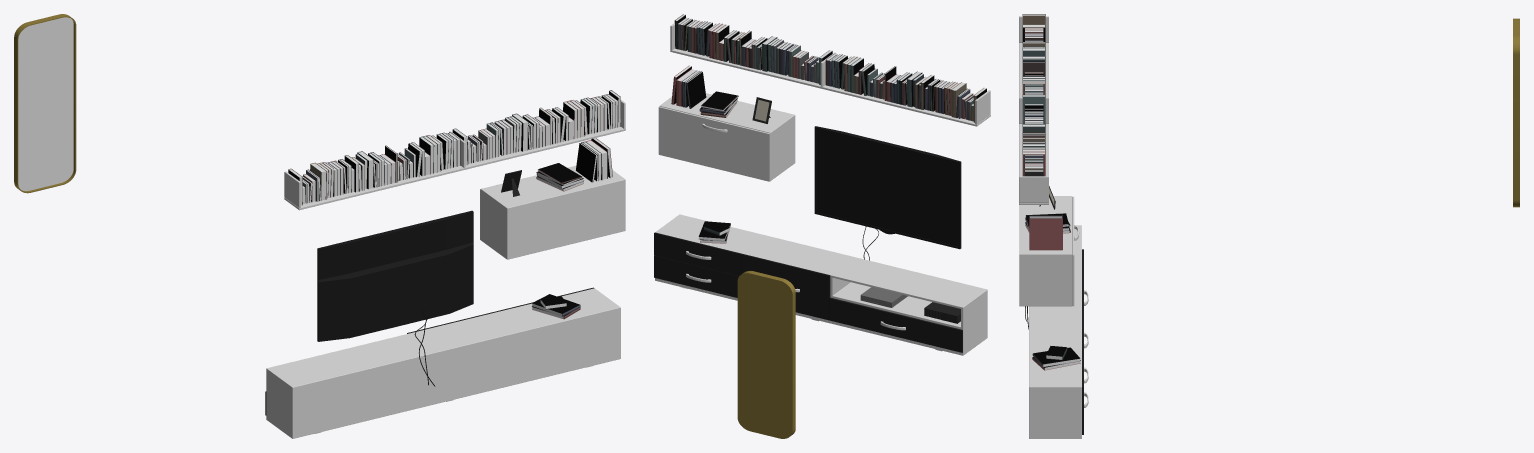
File: bed2.glb
The picture shows the model from 3 angles, left to right: view 1: azimuth 30°, elevation 25°; view 2: azimuth 150°, elevation 25°; view 3: azimuth 270°, elevation 25°; orthographic projection. The views are drawn at different scales.
Parts seen in each view (by area): view 1: TV Unit, Mirror Ibiracu II; view 2: TV Unit, Mirror Ibiracu II; view 3: TV Unit, Mirror Ibiracu II.
Part boxes in pixels (left/top/right/bottom): TV Unit: left=265, top=90, right=625, bottom=438; Mirror Ibiracu II: left=14, top=14, right=76, bottom=193; TV Unit: left=654, top=14, right=990, bottom=355; Mirror Ibiracu II: left=737, top=270, right=795, bottom=438; TV Unit: left=1019, top=14, right=1088, bottom=438; Mirror Ibiracu II: left=1513, top=18, right=1519, bottom=207.
Size of what is drawn, in the model's own units: 36.92 by 25.69 by 43.65.
13 materials, 1 textured.
